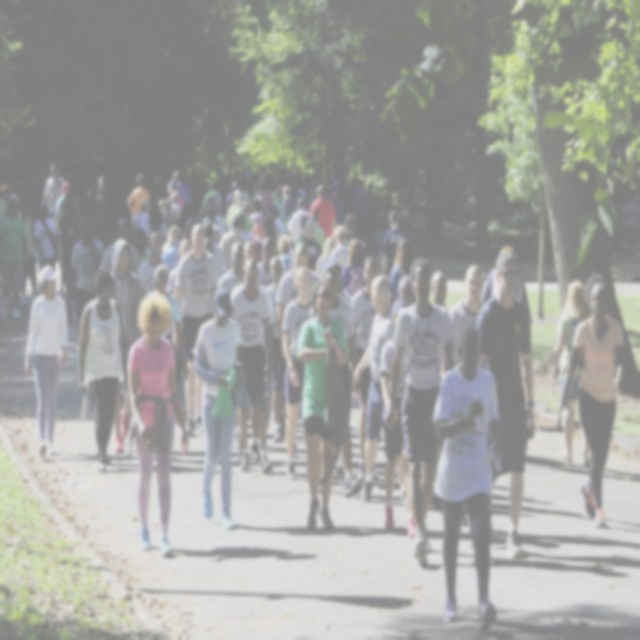pessoa: (431, 319, 502, 636), (384, 254, 456, 566), (552, 265, 628, 532), (124, 290, 194, 565), (474, 250, 534, 560), (351, 272, 414, 513), (294, 278, 352, 530), (191, 286, 245, 532), (308, 258, 363, 499), (274, 240, 324, 460), (78, 266, 130, 474), (172, 220, 220, 440), (228, 258, 274, 477), (378, 298, 417, 540), (24, 260, 70, 460), (158, 173, 308, 233), (550, 278, 594, 471), (108, 236, 144, 456), (349, 255, 382, 486), (280, 264, 314, 482), (440, 263, 490, 382), (67, 213, 105, 339), (152, 262, 188, 386), (266, 254, 286, 444), (480, 245, 531, 312), (326, 168, 380, 230), (0, 193, 25, 325), (165, 238, 193, 335), (59, 192, 82, 310), (136, 230, 172, 304), (212, 240, 247, 314), (100, 216, 142, 276), (217, 207, 250, 274), (19, 197, 39, 307), (34, 198, 60, 274), (389, 236, 417, 305), (381, 208, 407, 276), (293, 217, 323, 273), (144, 198, 170, 262), (309, 182, 337, 238), (341, 236, 366, 298), (126, 173, 150, 227), (43, 163, 65, 220), (255, 234, 278, 288), (93, 174, 109, 248), (288, 196, 311, 247), (159, 224, 182, 272), (328, 223, 350, 270), (203, 235, 226, 278), (314, 235, 336, 279), (262, 211, 282, 257), (274, 234, 296, 274), (0, 180, 22, 220), (52, 180, 72, 224), (430, 269, 450, 311), (132, 196, 152, 237), (266, 202, 288, 238), (311, 209, 327, 254), (249, 212, 267, 244), (397, 275, 414, 308), (342, 214, 358, 248), (300, 214, 310, 232)
